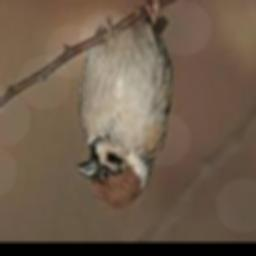Sparrow: (75, 0, 172, 210)
